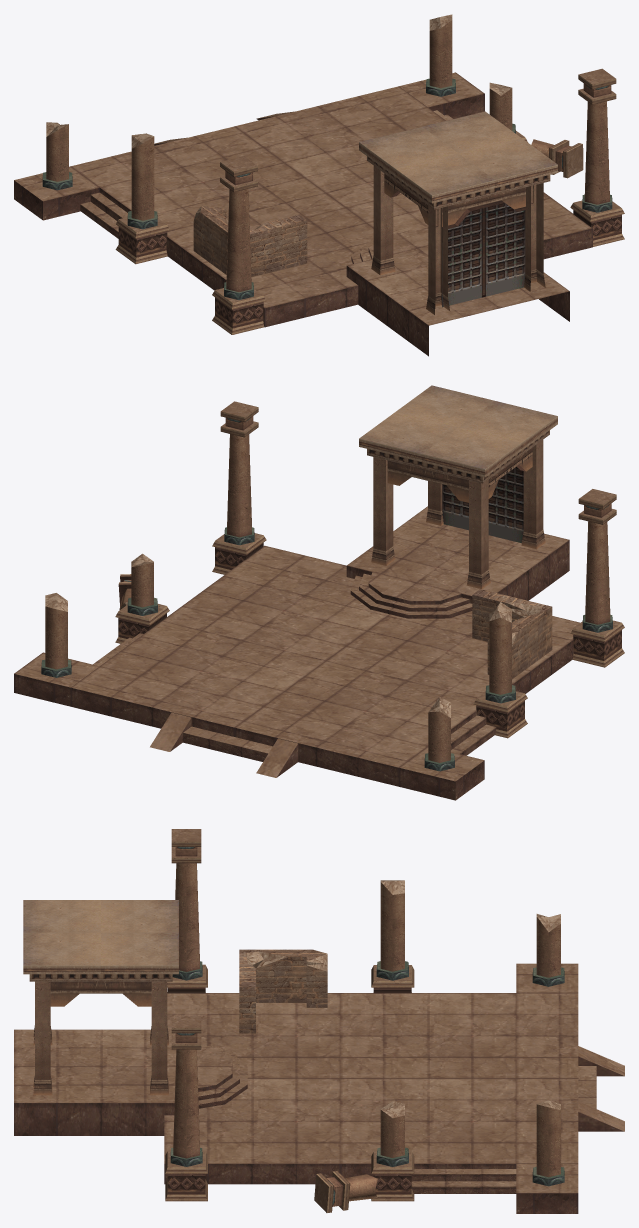
Rendered from SC_huangmo_03.FBX.
3 renders of one model, top to bottom at view 1: azimuth 30°, elevation 25°; view 2: azimuth 150°, elevation 25°; view 3: azimuth 270°, elevation 25°, orthographic. The views are drawn at different scales.
Visible parts, largest first — view 1: SC_huangmo_03; view 2: SC_huangmo_03; view 3: SC_huangmo_03.
Part boxes in pixels (x1,y1,x2,y2): SC_huangmo_03: [14, 14, 624, 356]; SC_huangmo_03: [14, 385, 624, 800]; SC_huangmo_03: [14, 829, 624, 1213].
Size of the model in its own units: 1966 by 664 by 2157.
